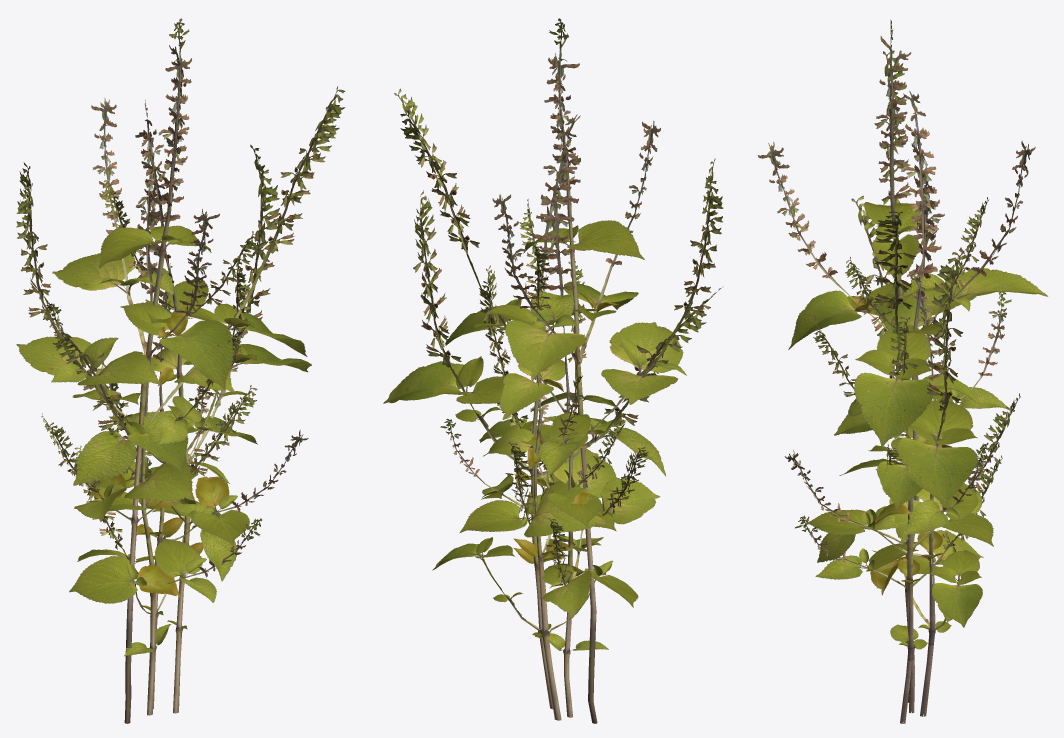
File: shrub-b.glb
3 views of the same model, side by side, from view 1: azimuth 30°, elevation 25°; view 2: azimuth 150°, elevation 25°; view 3: azimuth 270°, elevation 25° (orthographic). The views are drawn at different scales.
Visible parts, largest first — view 1: shrub_03_a, shrub_03_b, shrub_03_c, shrub_03_d; view 2: shrub_03_a, shrub_03_b, shrub_03_c, shrub_03_d; view 3: shrub_03_a, shrub_03_b, shrub_03_c, shrub_03_d.
Boxes of the visible parts, x1,y1,x2,y2 form: shrub_03_a: (16, 18, 345, 723); shrub_03_b: (46, 99, 311, 713); shrub_03_c: (45, 174, 262, 715); shrub_03_d: (69, 263, 237, 708); shrub_03_a: (394, 18, 723, 723); shrub_03_b: (383, 114, 723, 709); shrub_03_c: (479, 197, 618, 717); shrub_03_d: (432, 275, 638, 720); shrub_03_a: (758, 19, 1047, 702); shrub_03_b: (784, 91, 1020, 723); shrub_03_c: (795, 180, 1011, 713); shrub_03_d: (817, 275, 988, 716).
Bounding box in the file's own units: 0.2608 × 0.5236 × 0.1966.
Materials: 1 (1 with a texture image).
